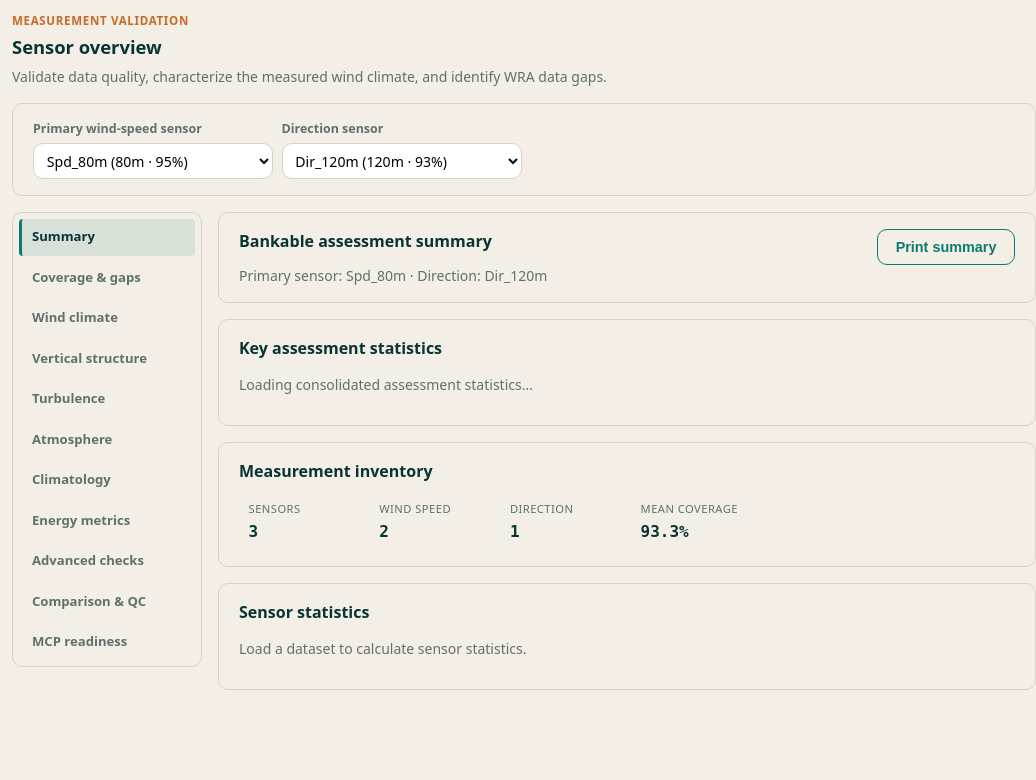
Sensor Overview › renders the P5 energy and advanced-analysis states
The image size is (1036, 780).
Click the button "Energy metrics" at (107, 520), box [19, 502, 195, 539]
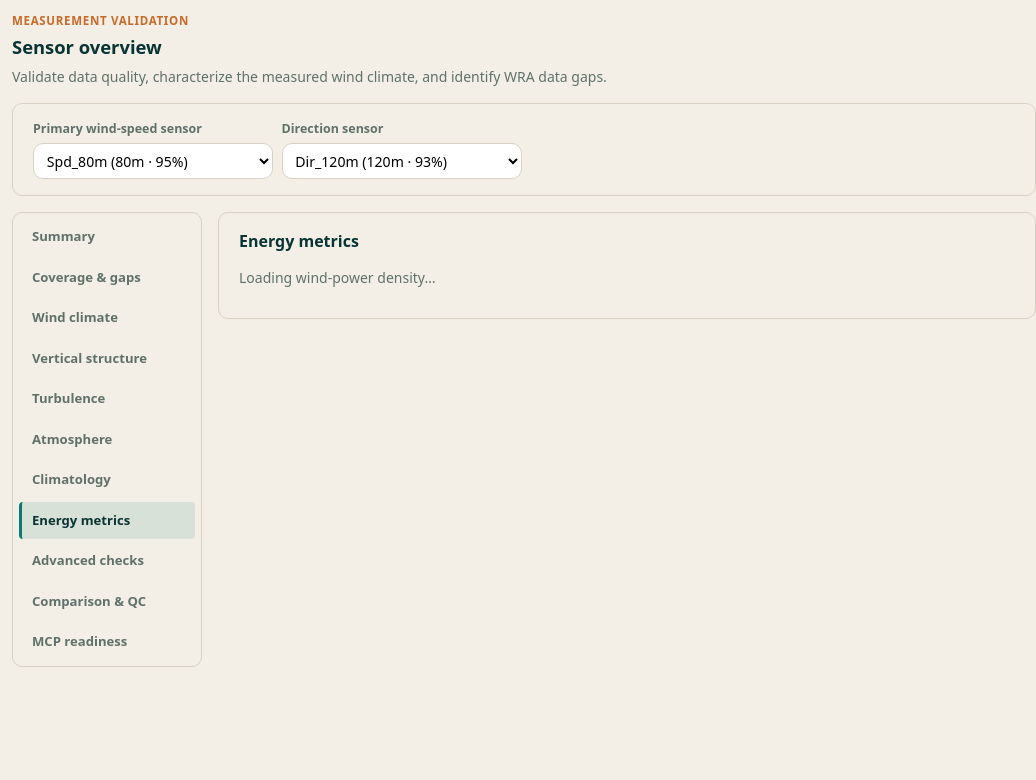
Check: the heading "Energy metrics" is shown, box [239, 230, 359, 252]
Click the button "Advanced checks" at (107, 561), box [19, 542, 195, 580]
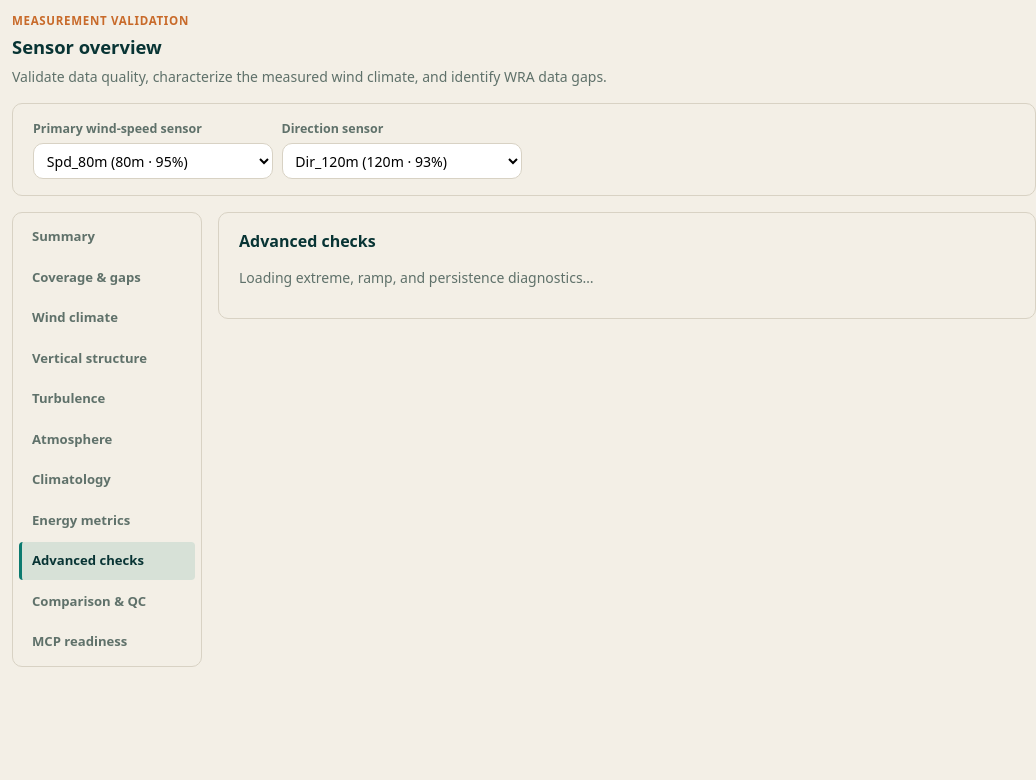
Check: the heading "Advanced checks" is shown, box [239, 230, 376, 252]
